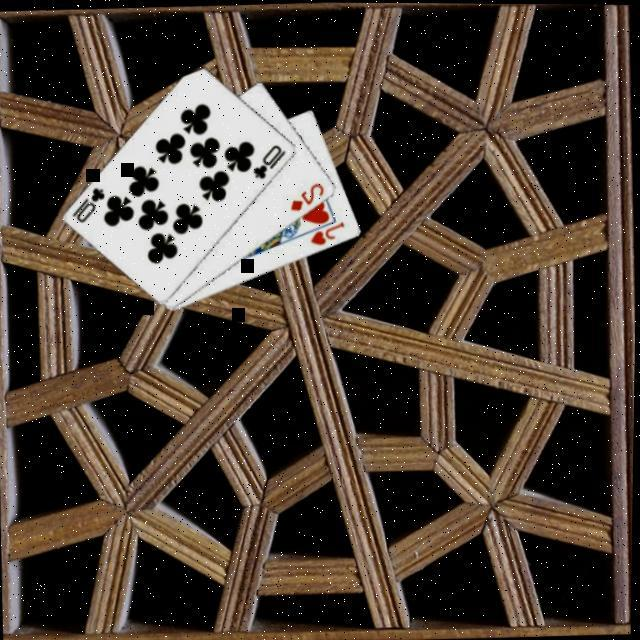10C: (69, 184, 111, 227), (251, 142, 290, 183)
2D: (288, 181, 329, 216)
JH: (308, 220, 349, 249)
